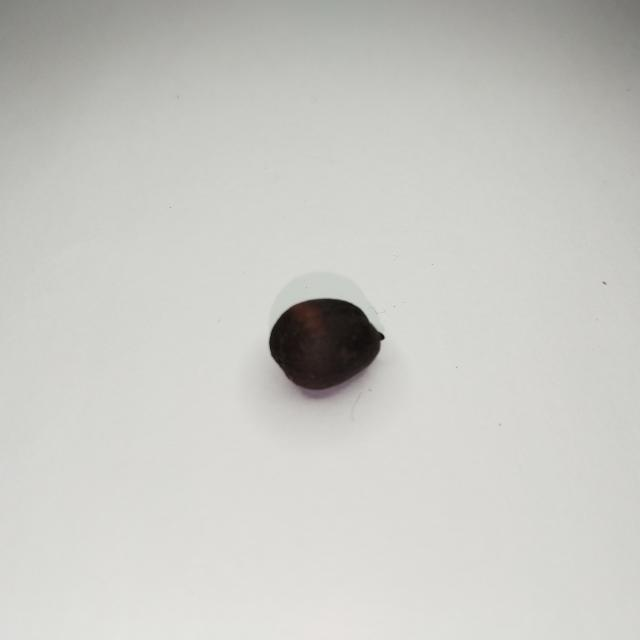Danado: (270, 299, 380, 390)
